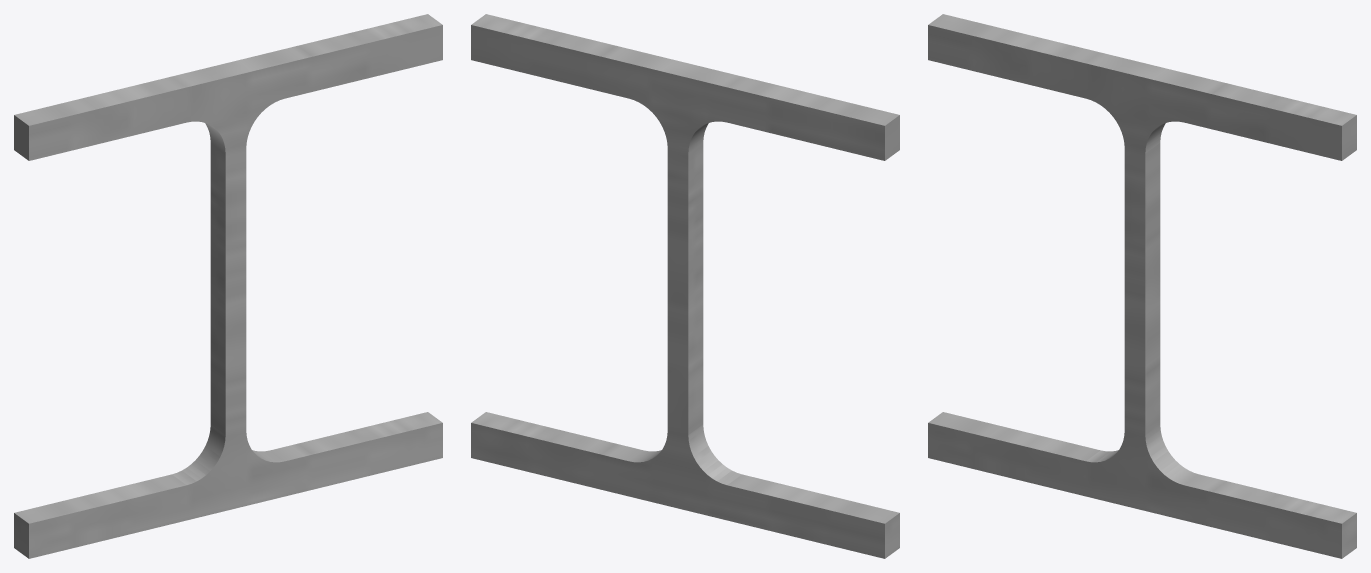
File: HEB160.glb
3 views of the same model, side by side, from view 1: azimuth 30°, elevation 25°; view 2: azimuth 150°, elevation 25°; view 3: azimuth 330°, elevation 25° (orthographic).
Size of the model in its own units: 16 by 16 by 1.
Materials: 1 (1 with a texture image).
